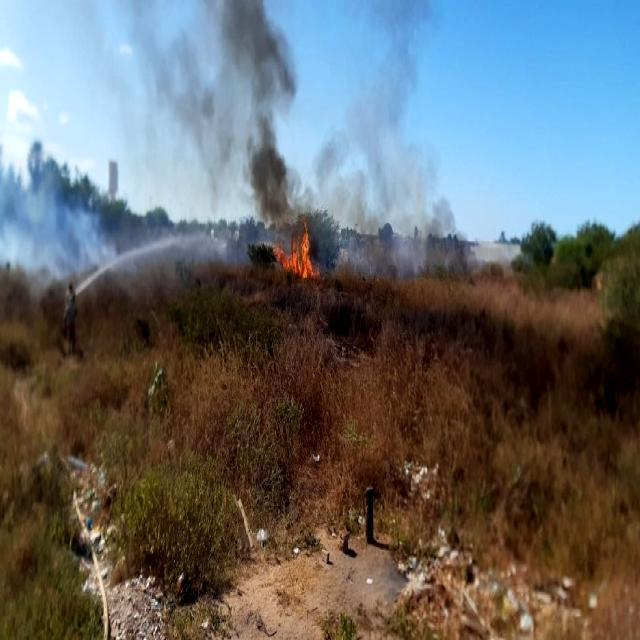Fire: (280, 216, 316, 284)
Smoke: (172, 0, 296, 214), (1, 169, 120, 294)
